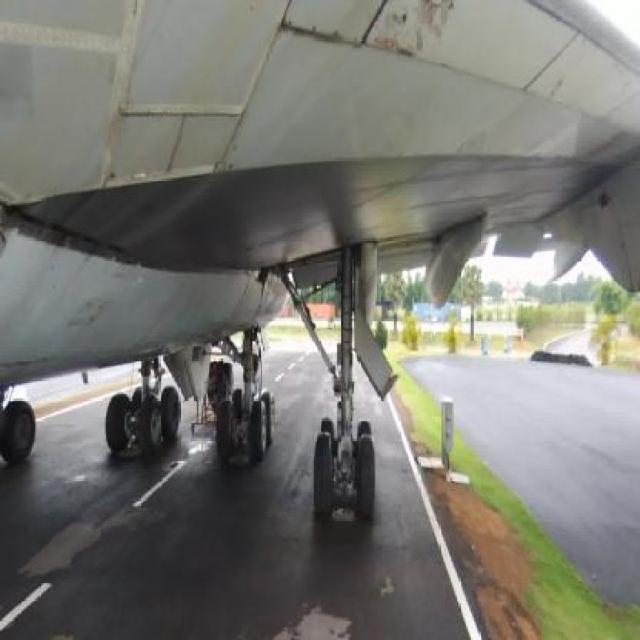Rust: (249, 62, 568, 166), (197, 78, 226, 162)
